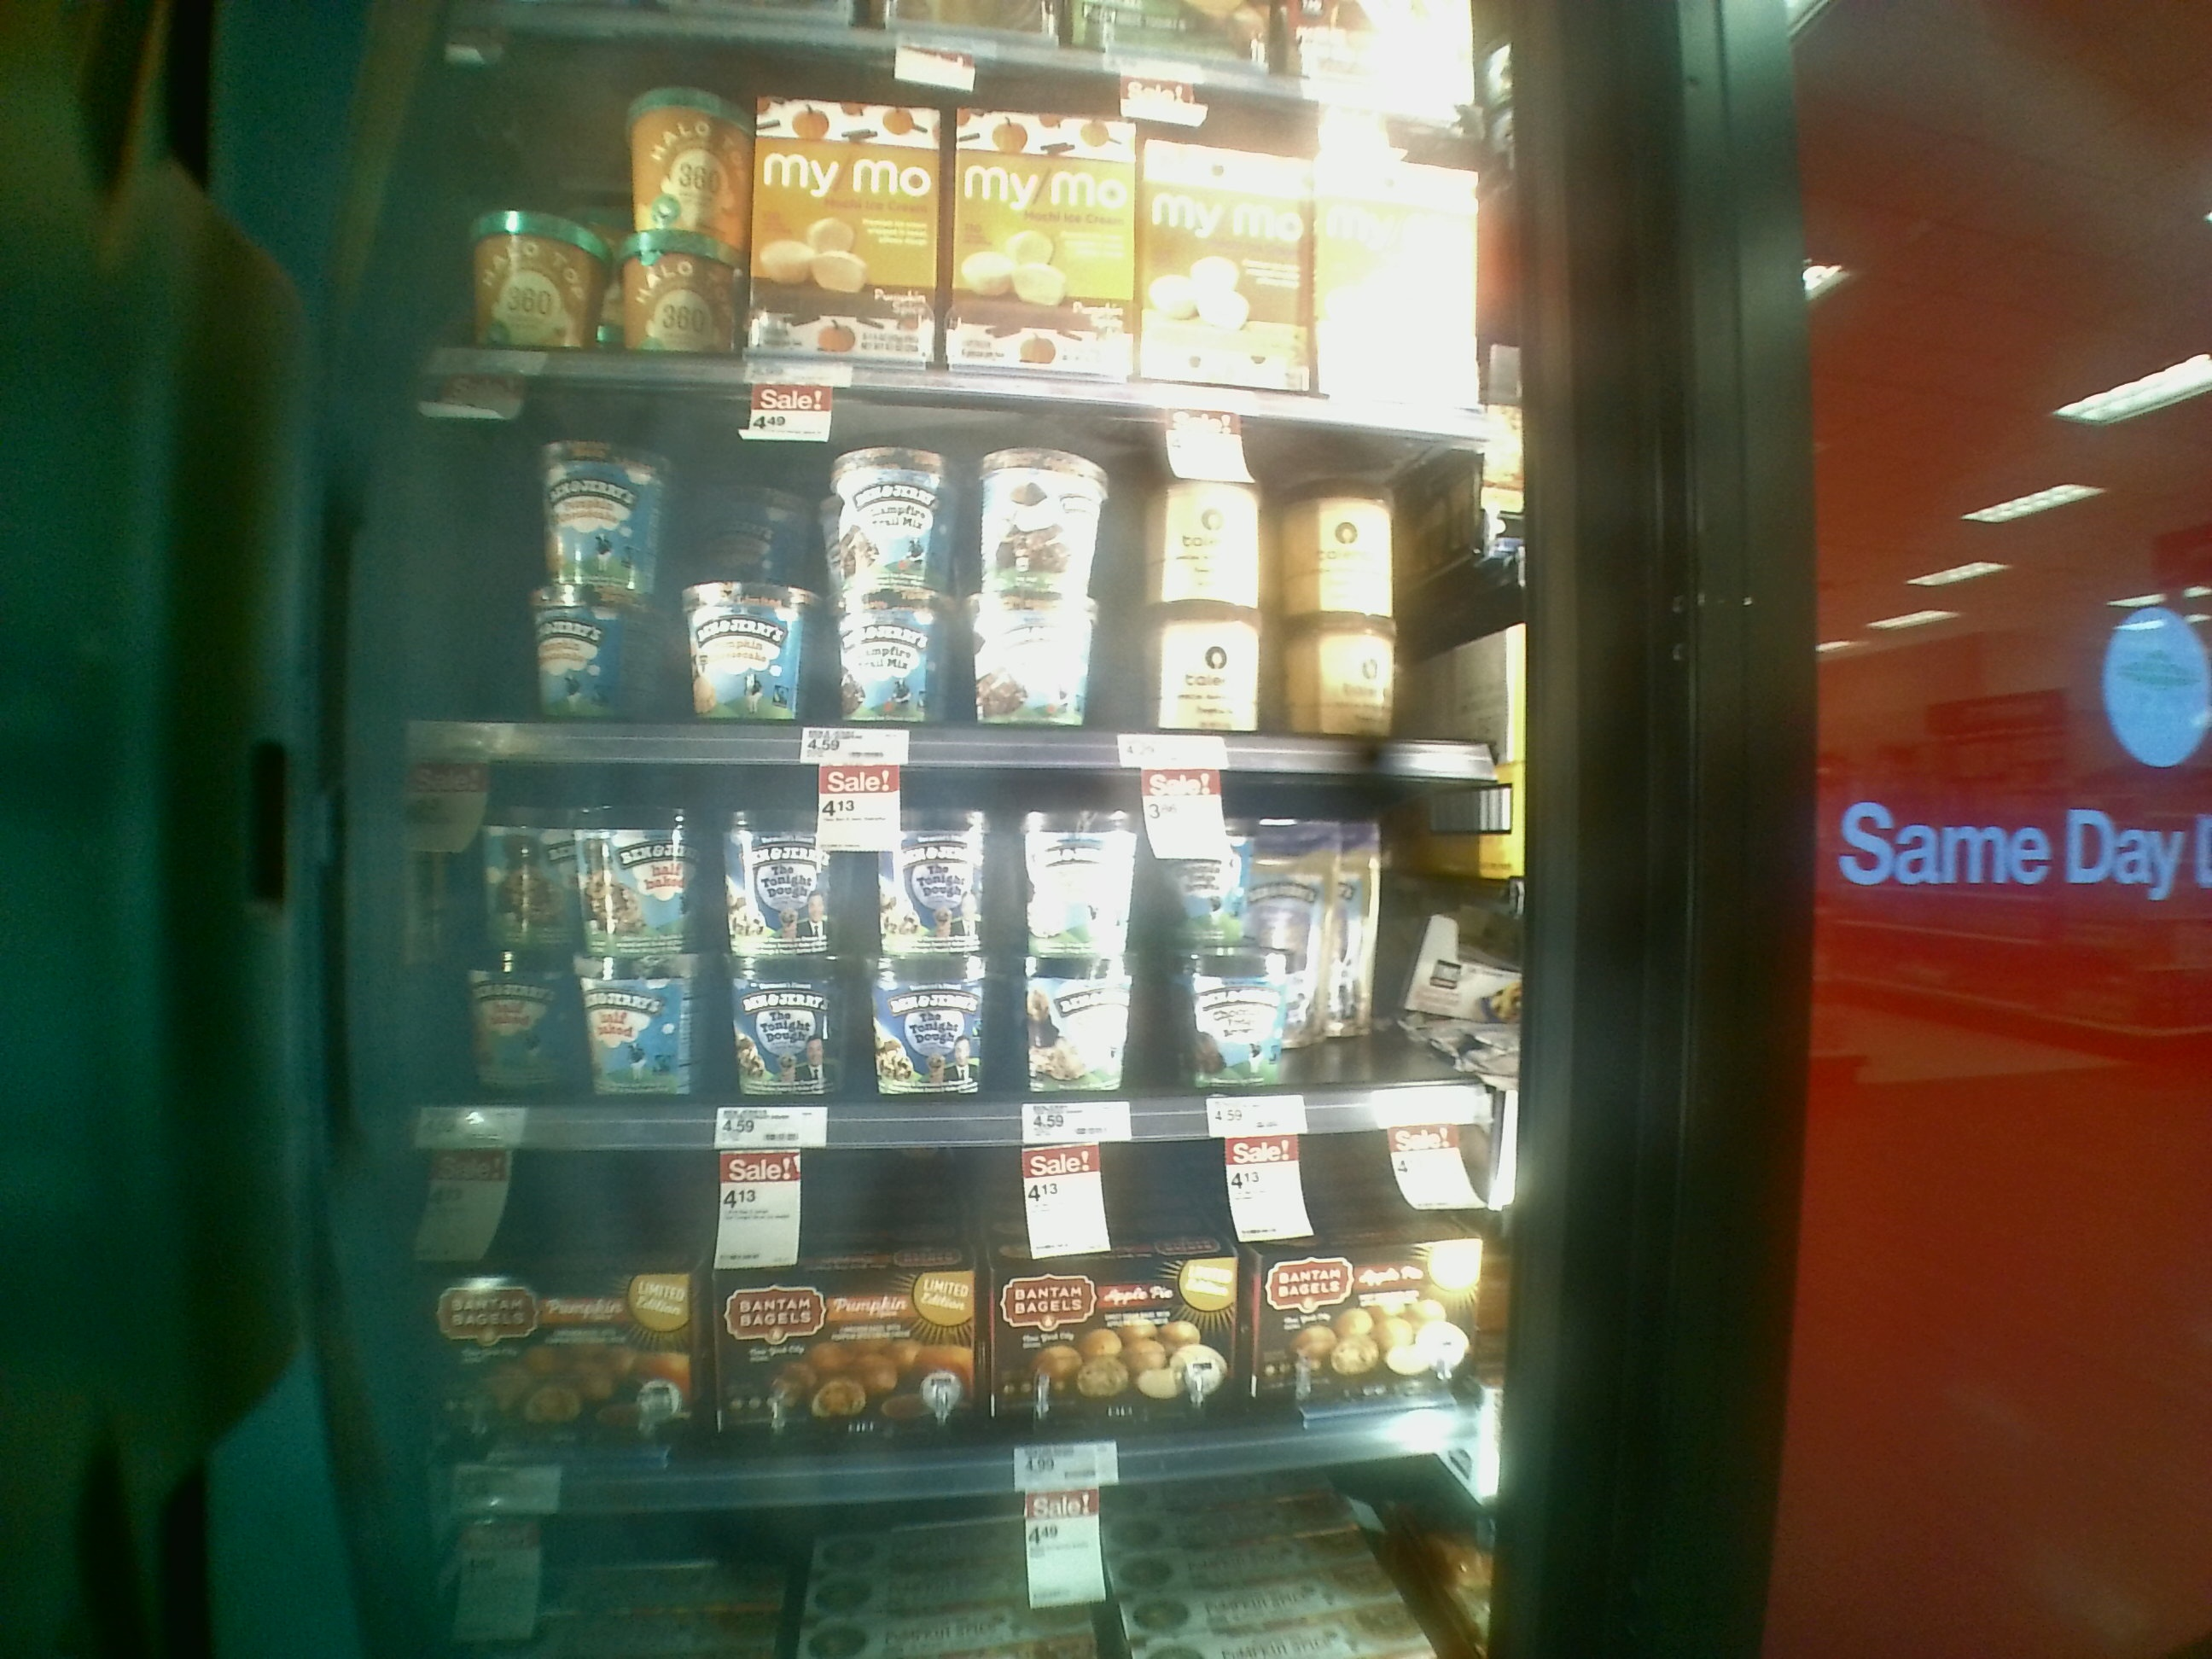shelf: (399, 352, 1540, 775), (380, 758, 1517, 1143), (354, 1121, 1514, 1459)
